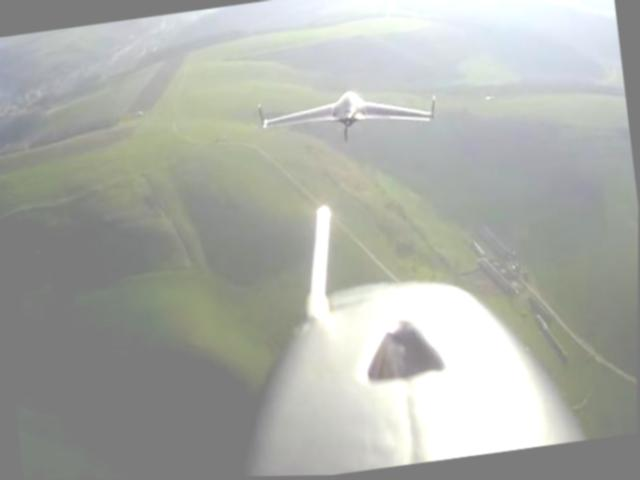iha: (252, 72, 443, 146)
